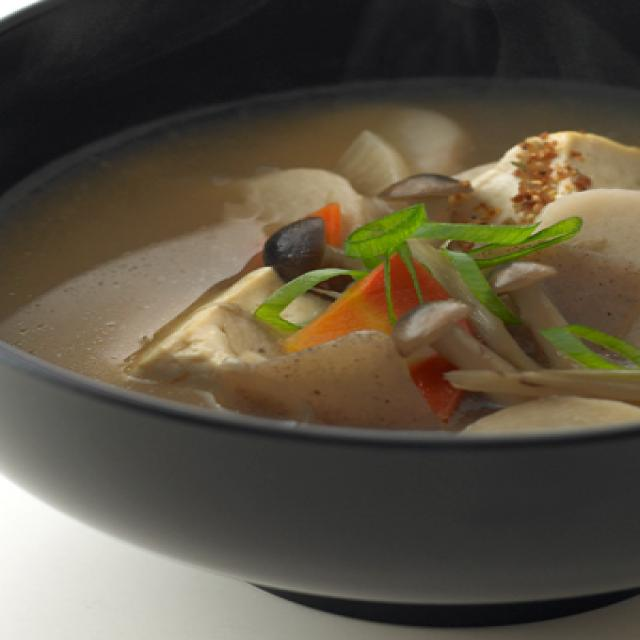蔬菜料理: (0, 0, 640, 635)
